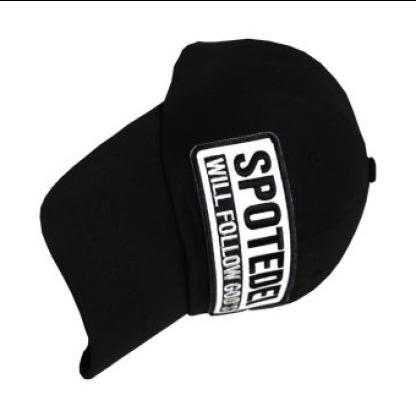cap: (31, 29, 382, 389)
